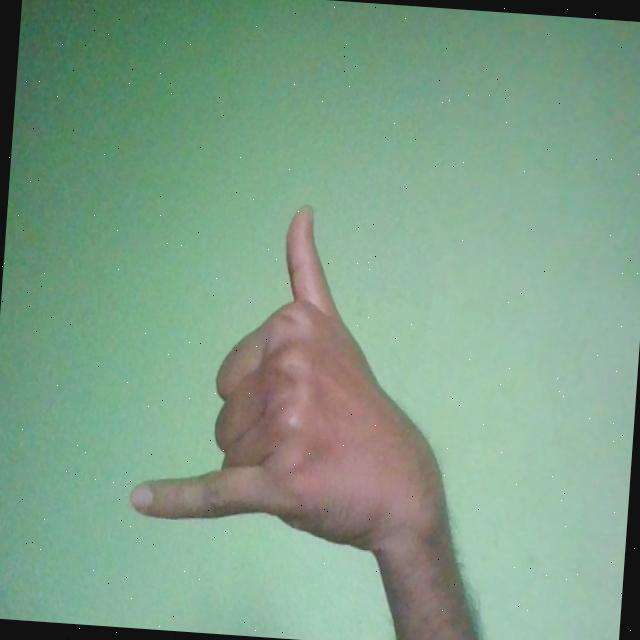Call Me: (124, 192, 470, 559)
